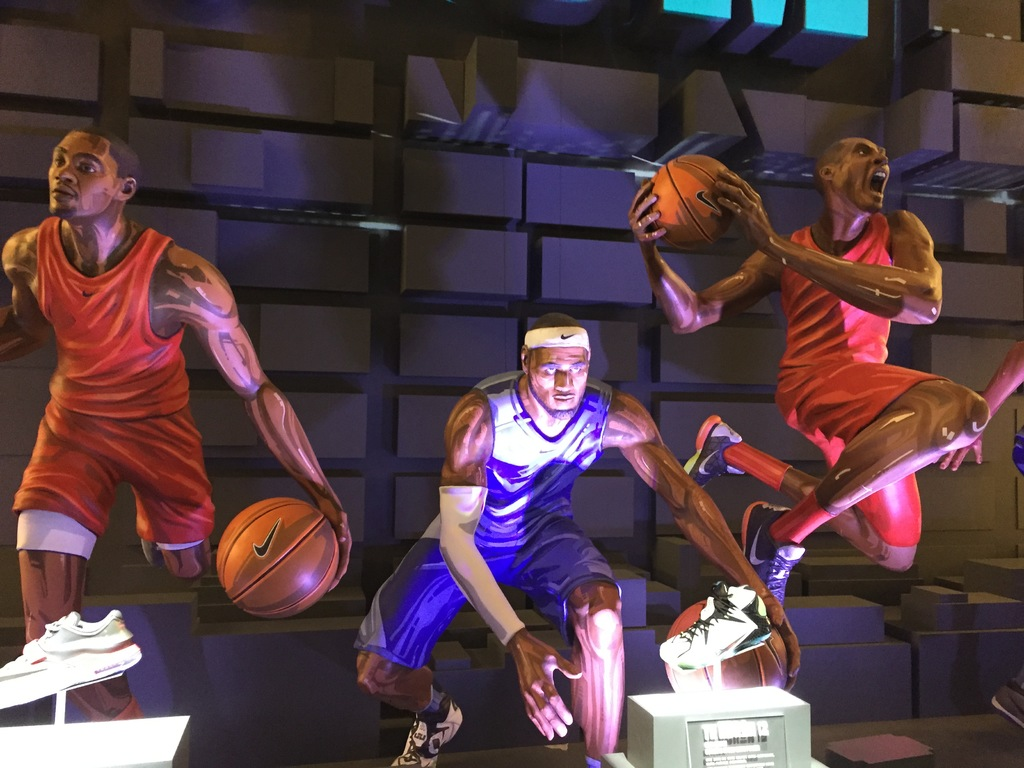Ball: (218, 498, 340, 618), (647, 157, 749, 252)
